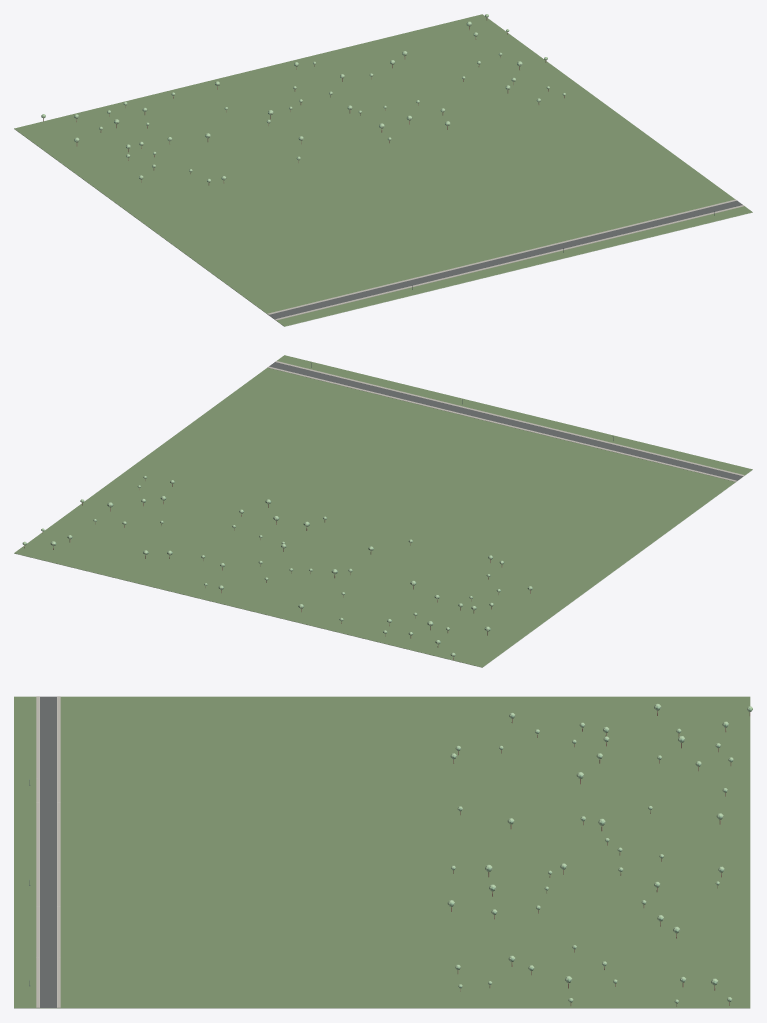
Rendered from chunk_6_5_high.glb.
The picture shows the model from 3 angles, top to bottom: view 1: azimuth 30°, elevation 25°; view 2: azimuth 150°, elevation 25°; view 3: azimuth 270°, elevation 25°; orthographic projection. The views are drawn at different scales.
Visible parts, largest first — view 1: city_forest_floor, city_world_asphalt, city_world_sidewalk, city_foliage, city_grass, city_curb; view 2: city_forest_floor, city_world_asphalt, city_world_sidewalk, city_foliage, city_grass, city_curb; view 3: city_forest_floor, city_world_asphalt, city_world_sidewalk, city_foliage, city_grass, city_foliage_dark, city_curb.
Part boxes in pixels (x1,y1,x2,y2): city_forest_floor: (14,14,752,326); city_world_asphalt: (269,200,742,319); city_world_sidewalk: (267,199,744,320); city_foliage: (41,14,565,182); city_grass: (14,129,752,326); city_curb: (269,200,741,319); city_forest_floor: (14,355,752,667); city_world_asphalt: (269,362,742,480); city_world_sidewalk: (267,361,744,481); city_foliage: (23,476,532,656); city_grass: (14,470,752,667); city_curb: (271,362,743,480); city_forest_floor: (14,696,750,1007); city_world_asphalt: (40,696,56,1007); city_world_sidewalk: (36,696,60,1007); city_foliage: (447,703,752,1003); city_grass: (14,1008,750,1008); city_foliage_dark: (450,706,751,1003); city_curb: (36,696,60,1007).
Bounding box in the file's own units: 512 × 9.79 × 514.
